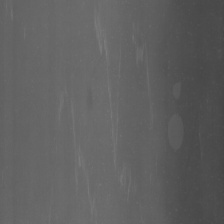silk_spot: (91, 13, 132, 194), (65, 135, 101, 216), (129, 25, 157, 107), (55, 77, 86, 145), (165, 109, 187, 161), (168, 70, 189, 105)
